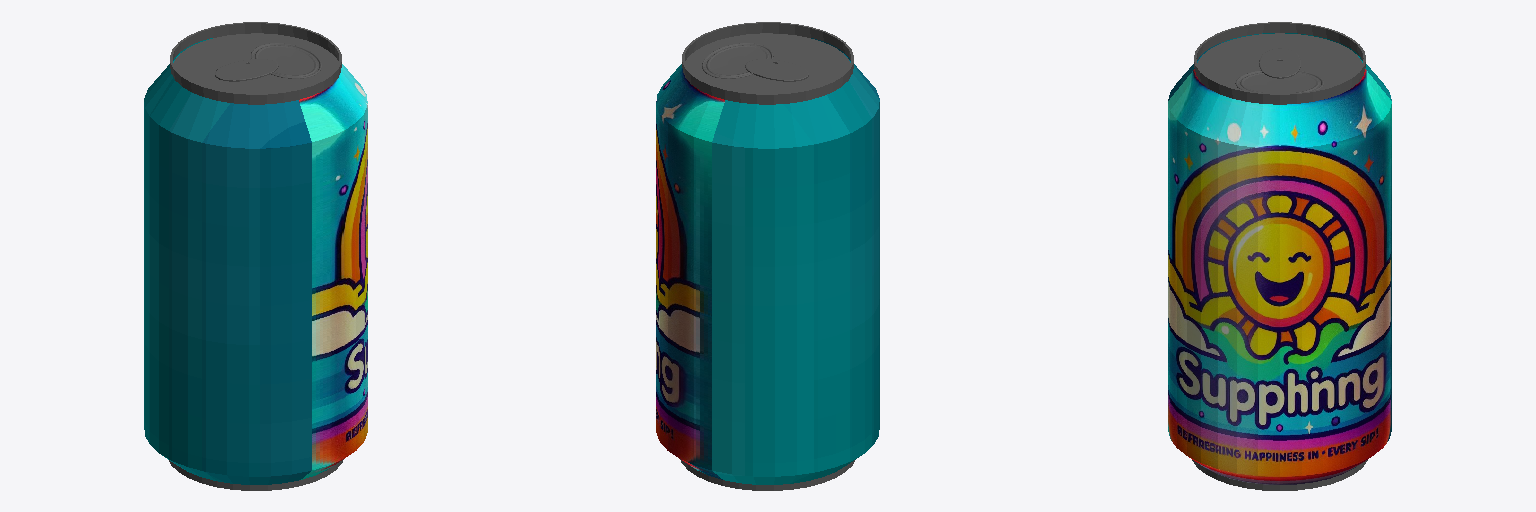
3 renders of one model, left to right at view 1: azimuth 30°, elevation 25°; view 2: azimuth 150°, elevation 25°; view 3: azimuth 270°, elevation 25°, orthographic.
Visible parts, largest first — view 1: Cylinder, Cylinder.001; view 2: Cylinder, Cylinder.001; view 3: Cylinder, Cylinder.001.
Part boxes in pixels (x1,y1,x2,y2): Cylinder: (144,22,367,490); Cylinder.001: (215,43,321,81); Cylinder: (656,22,879,490); Cylinder.001: (702,43,808,81); Cylinder: (1168,22,1391,490); Cylinder.001: (1235,48,1323,93).
Size of the model in its own units: 0.8859 by 1.72 by 0.8859.
3 materials, 1 textured.